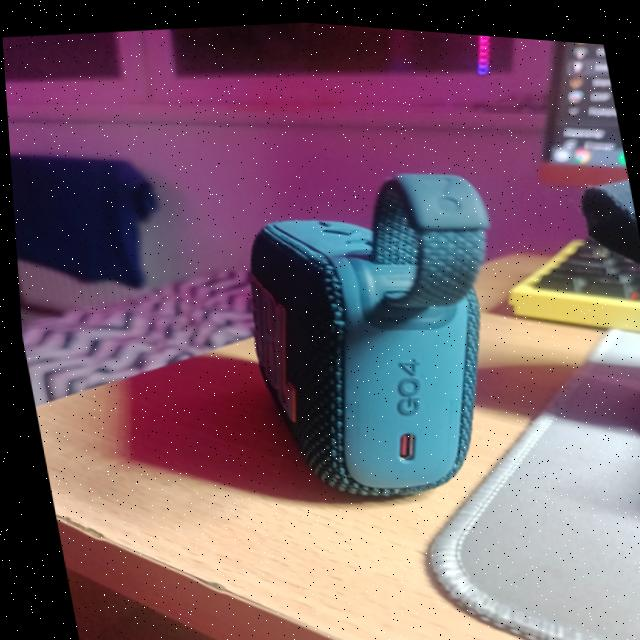column JBL: (247, 169, 483, 490)
